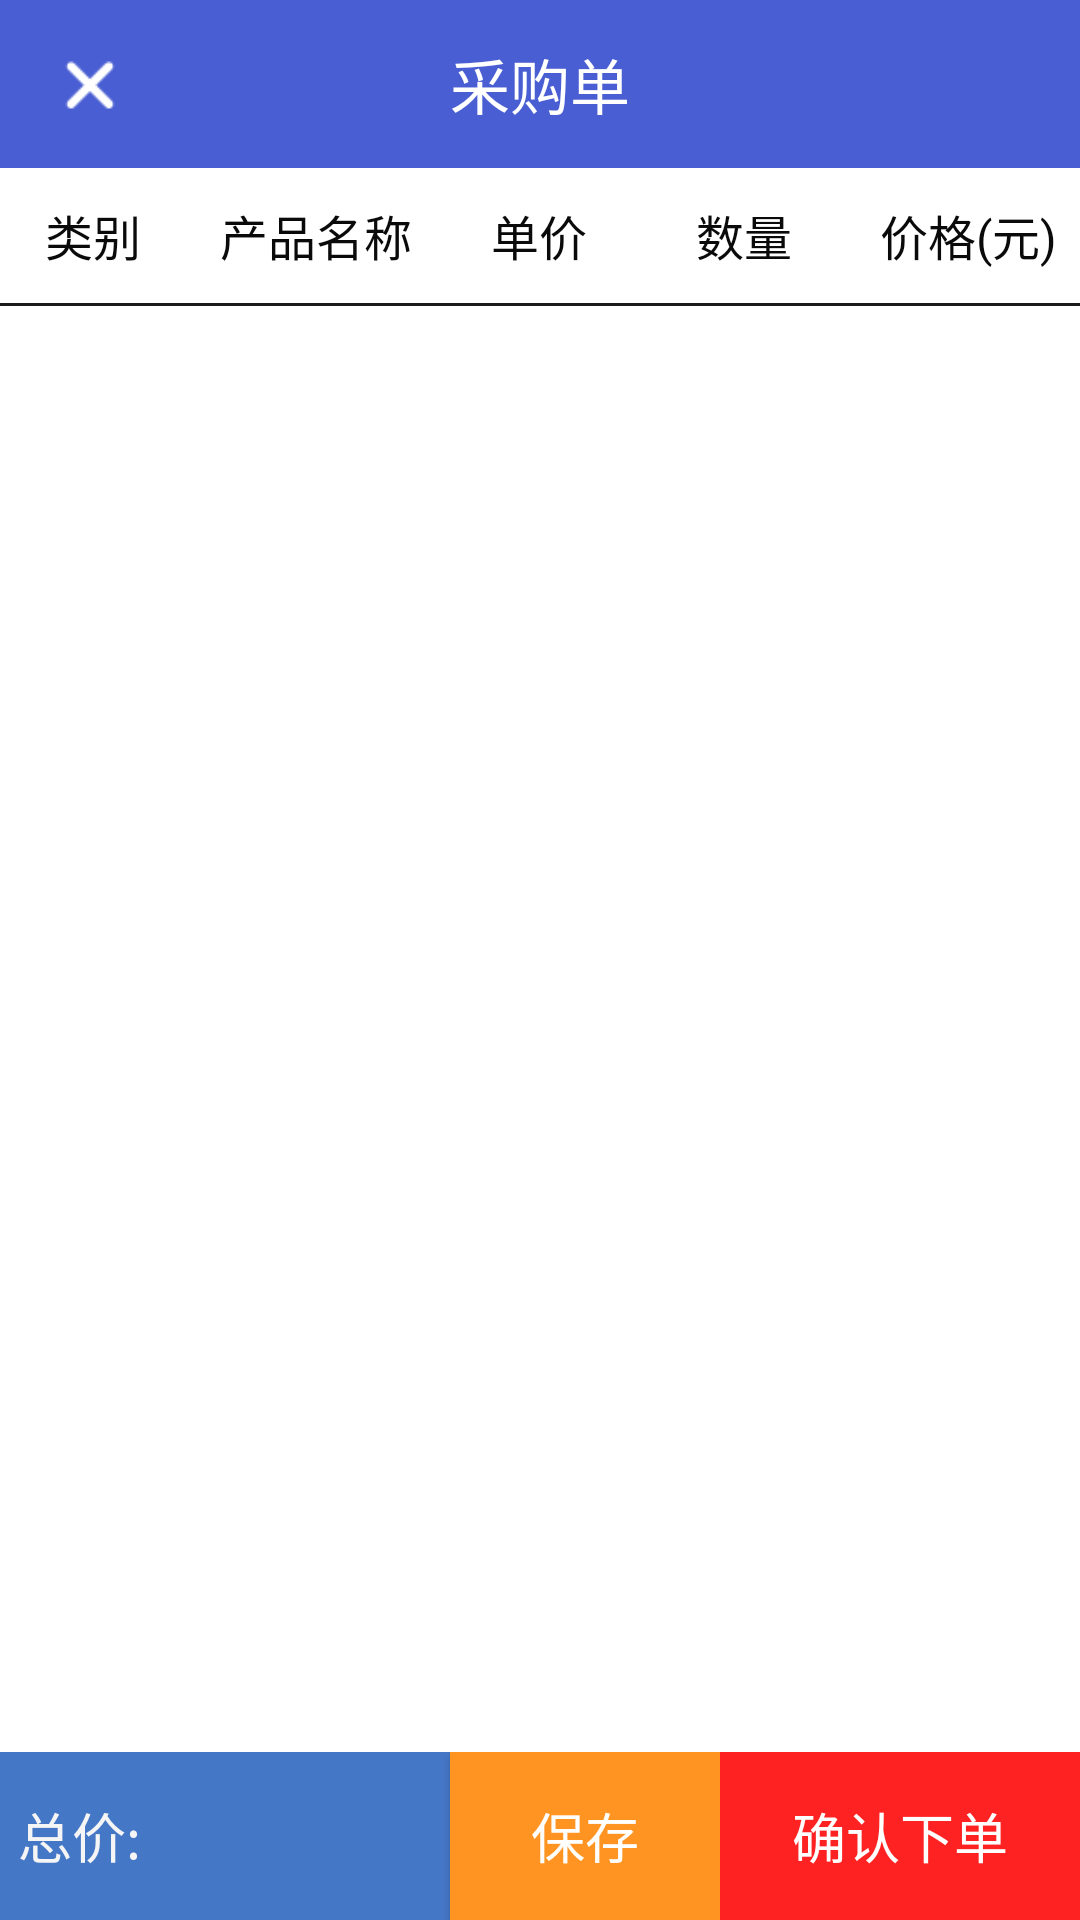

Screen size 1080 x 1920. Icon name, then its box in pixels as (x1, y1, x2, y2):
cancel: (66, 61, 114, 109)
